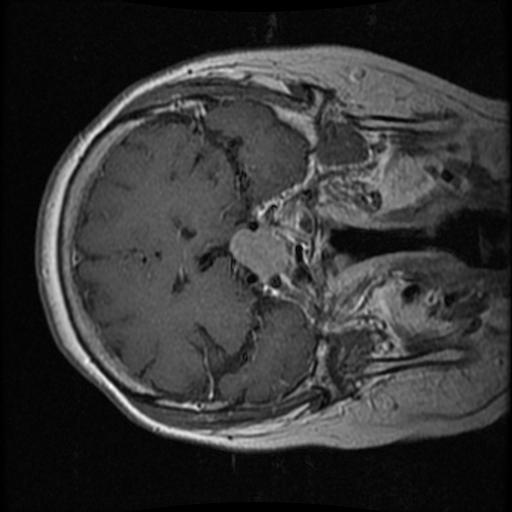pituitary tumour: (230, 219, 290, 281)
